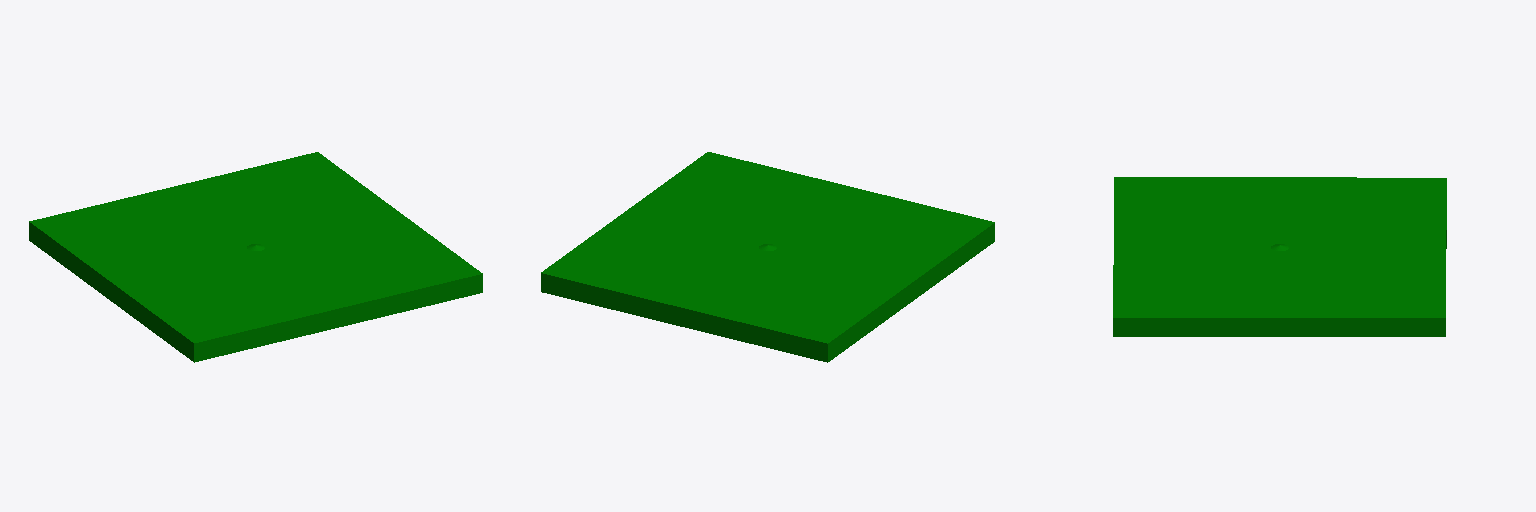
3 views of the same model, side by side, from view 1: azimuth 30°, elevation 25°; view 2: azimuth 150°, elevation 25°; view 3: azimuth 270°, elevation 25° (orthographic).
Parts seen in each view (by area): view 1: compass_case_001; view 2: compass_case_001; view 3: compass_case_001.
Part boxes in pixels (x1,y1,x2,y2): compass_case_001: (29,152,482,362); compass_case_001: (541,152,994,362); compass_case_001: (1113,177,1446,336).
Bounding box in the file's own units: 1.21 × 0.0852 × 1.21.